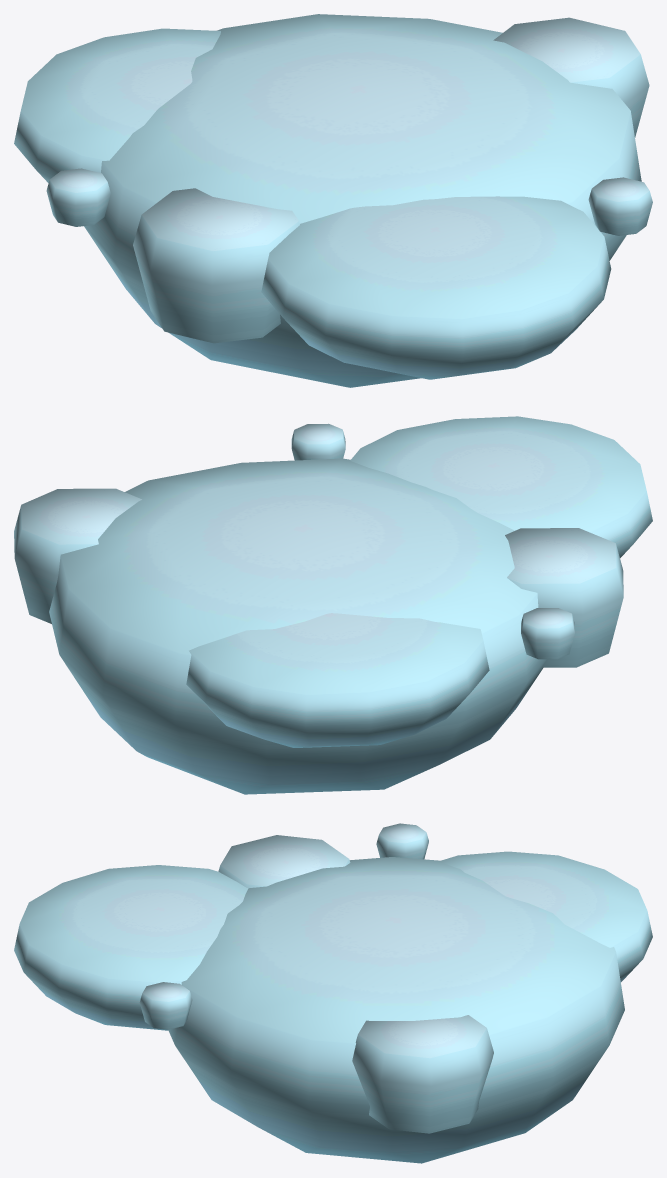
Rendered from FloorDeco1B-003_02_24_4629.fbx.
3 renders of one model, top to bottom at view 1: azimuth 30°, elevation 25°; view 2: azimuth 150°, elevation 25°; view 3: azimuth 270°, elevation 25°, orthographic. The views are drawn at different scales.
Visible parts, largest first — view 1: Snowpile, Snowpile (1), Snowpile (7), Snowpile (2), Snowpile (9), Snowpile (8), Snowpile (6); view 2: Snowpile, Snowpile (2), Snowpile (1), Snowpile (7), Snowpile (9), Snowpile (6), Snowpile (8); view 3: Snowpile, Snowpile (1), Snowpile (9), Snowpile (2), Snowpile (7), Snowpile (8), Snowpile (6).
Part boxes in pixels (x1,y1,x2,y2): Snowpile: (84,14,641,387); Snowpile (1): (261,196,611,379); Snowpile (7): (133,188,299,343); Snowpile (2): (14,28,220,182); Snowpile (9): (493,17,649,137); Snowpile (8): (588,177,652,235); Snowpile (6): (46,168,110,226); Snowpile: (49,458,546,794); Snowpile (2): (186,613,489,747); Snowpile (1): (350,416,652,558); Snowpile (7): (505,528,623,667); Snowpile (9): (14,488,141,623); Snowpile (6): (521,608,574,659); Snowpile (8): (291,423,345,460); Snowpile: (168,857,624,1163); Snowpile (1): (14,865,248,1030); Snowpile (9): (352,1015,493,1133); Snowpile (2): (438,851,652,981); Snowpile (7): (218,835,350,888); Snowpile (8): (139,982,192,1029); Snowpile (6): (376,823,428,859).
Size of the model in its own units: 1.69 by 0.583 by 1.91.
